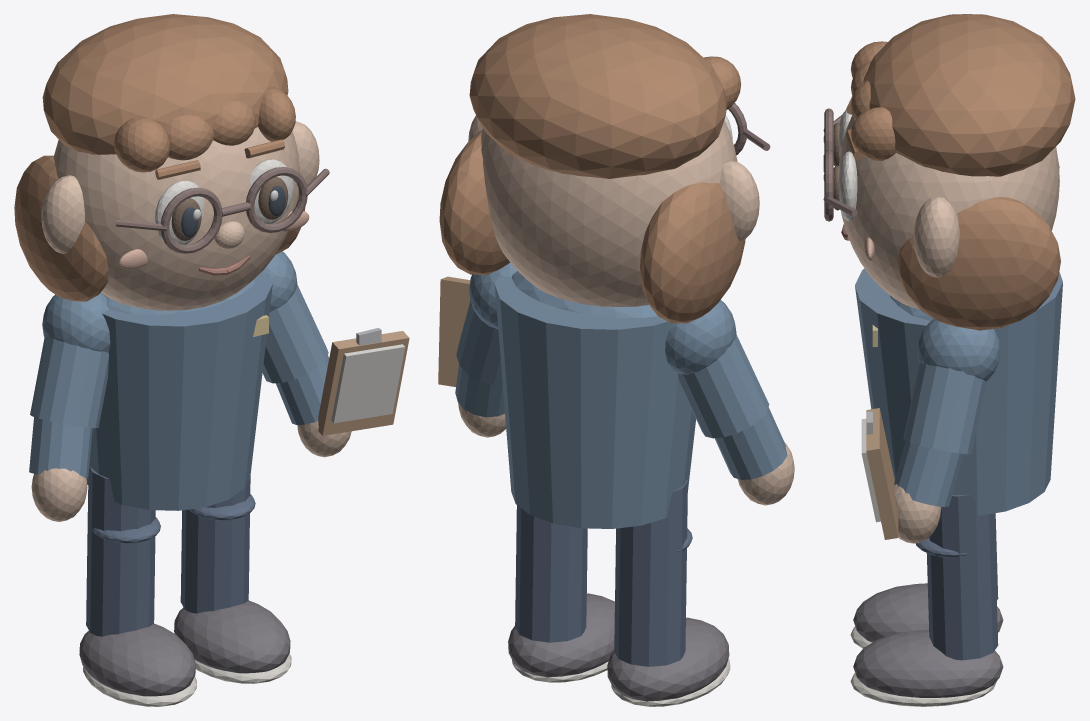
File: 03_Hostel_Elena.glb
3 views of the same model, side by side, from view 1: azimuth 30°, elevation 25°; view 2: azimuth 150°, elevation 25°; view 3: azimuth 270°, elevation 25° (orthographic). The views are drawn at different scales.
Parts seen in each view (by area): view 1: 03_Hostel_Elena_torso_008, 03_Hostel_Elena_hair_main_039, 03_Hostel_Elena_head_019, 03_Hostel_Elena_pant_leg_002, 03_Hostel_Elena_pant_leg_006, 03_Hostel_Elena_hair_left_bob_044, 03_Hostel_Elena_shoe_000, 03_Hostel_Elena_shoe_004, 03_Hostel_Elena_upper_arm_012, 03_Hostel_Elena_clipboard_paper_054, 03_Hostel_Elena_upper_arm_016, 03_Hostel_Elena_shoulder_011 (+23 smaller); view 2: 03_Hostel_Elena_torso_008, 03_Hostel_Elena_hair_main_039, 03_Hostel_Elena_head_019, 03_Hostel_Elena_hair_left_bob_044, 03_Hostel_Elena_pant_leg_002, 03_Hostel_Elena_pant_leg_006, 03_Hostel_Elena_hair_right_bob_045, 03_Hostel_Elena_upper_arm_012, 03_Hostel_Elena_shoe_000, 03_Hostel_Elena_shoe_004, 03_Hostel_Elena_shoulder_011, 03_Hostel_Elena_forearm_013 (+11 smaller); view 3: 03_Hostel_Elena_hair_main_039, 03_Hostel_Elena_torso_008, 03_Hostel_Elena_hair_right_bob_045, 03_Hostel_Elena_head_019, 03_Hostel_Elena_pant_leg_006, 03_Hostel_Elena_shoe_004, 03_Hostel_Elena_upper_arm_016, 03_Hostel_Elena_shoulder_015, 03_Hostel_Elena_shoe_000, 03_Hostel_Elena_forearm_017, 03_Hostel_Elena_ear_027, 03_Hostel_Elena_clipboard_053 (+10 smaller).
Boxes of the visible parts, x1,y1,x2,y2 form: 03_Hostel_Elena_torso_008: (86,273,272,510); 03_Hostel_Elena_hair_main_039: (42,14,288,154); 03_Hostel_Elena_head_019: (53,127,299,310); 03_Hostel_Elena_pant_leg_002: (86,466,155,636); 03_Hostel_Elena_pant_leg_006: (180,476,250,613); 03_Hostel_Elena_hair_left_bob_044: (14,155,108,301); 03_Hostel_Elena_shoe_000: (79,623,195,696); 03_Hostel_Elena_shoe_004: (174,600,290,673); 03_Hostel_Elena_upper_arm_012: (30,337,108,428); 03_Hostel_Elena_clipboard_paper_054: (331,344,405,423); 03_Hostel_Elena_upper_arm_016: (262,285,328,383); 03_Hostel_Elena_shoulder_011: (42,292,110,352); 03_Hostel_Elena_torso_008: (494,276,695,528); 03_Hostel_Elena_hair_main_039: (469,14,726,178); 03_Hostel_Elena_head_019: (481,120,737,306); 03_Hostel_Elena_hair_left_bob_044: (640,182,745,323); 03_Hostel_Elena_pant_leg_002: (614,479,687,666); 03_Hostel_Elena_pant_leg_006: (515,505,587,642); 03_Hostel_Elena_hair_right_bob_045: (439,130,510,274); 03_Hostel_Elena_upper_arm_012: (677,334,769,438); 03_Hostel_Elena_shoe_000: (607,617,729,701); 03_Hostel_Elena_shoe_004: (508,593,614,677); 03_Hostel_Elena_shoulder_011: (665,300,736,374); 03_Hostel_Elena_forearm_013: (715,407,787,479); 03_Hostel_Elena_hair_main_039: (863,14,1075,176); 03_Hostel_Elena_torso_008: (855,268,1062,515); 03_Hostel_Elena_hair_right_bob_045: (896,197,1060,330); 03_Hostel_Elena_head_019: (839,115,1059,309); 03_Hostel_Elena_pant_leg_006: (926,494,998,660); 03_Hostel_Elena_shoe_004: (853,630,1003,697); 03_Hostel_Elena_upper_arm_016: (903,363,986,454); 03_Hostel_Elena_shoulder_015: (917,318,1000,381); 03_Hostel_Elena_shoe_000: (853,583,1003,642); 03_Hostel_Elena_forearm_017: (894,441,963,506); 03_Hostel_Elena_ear_027: (913,196,959,277); 03_Hostel_Elena_clipboard_053: (866,408,898,539).
Bounding box in the file's own units: 1.34 × 2.3 × 0.822.
